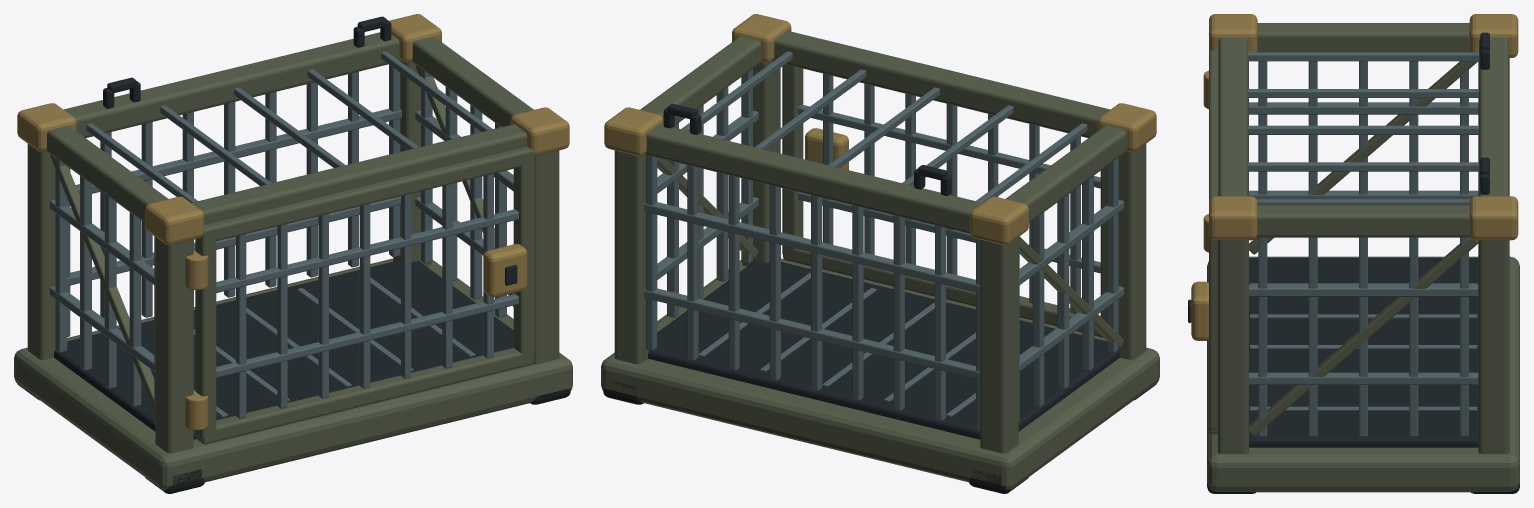
File: MINER_CAGE.hi.glb
The picture shows the model from 3 angles, left to right: view 1: azimuth 30°, elevation 25°; view 2: azimuth 150°, elevation 25°; view 3: azimuth 270°, elevation 25°; orthographic projection. The views are drawn at different scales.
Visible parts, largest first — view 1: Body_Mesh, DoorPivot_Mesh; view 2: Body_Mesh, DoorPivot_Mesh; view 3: Body_Mesh, DoorPivot_Mesh.
Boxes of the visible parts, left/top/right/bottom form: Body_Mesh: left=14, top=14, right=572, bottom=493; DoorPivot_Mesh: left=195, top=146, right=534, bottom=444; Body_Mesh: left=601, top=14, right=1159, bottom=493; DoorPivot_Mesh: left=782, top=64, right=1106, bottom=337; Body_Mesh: left=1203, top=14, right=1519, bottom=493; DoorPivot_Mesh: left=1188, top=50, right=1218, bottom=433.
Bounding box in the file's own units: 2.8 × 1.91 × 1.91.
